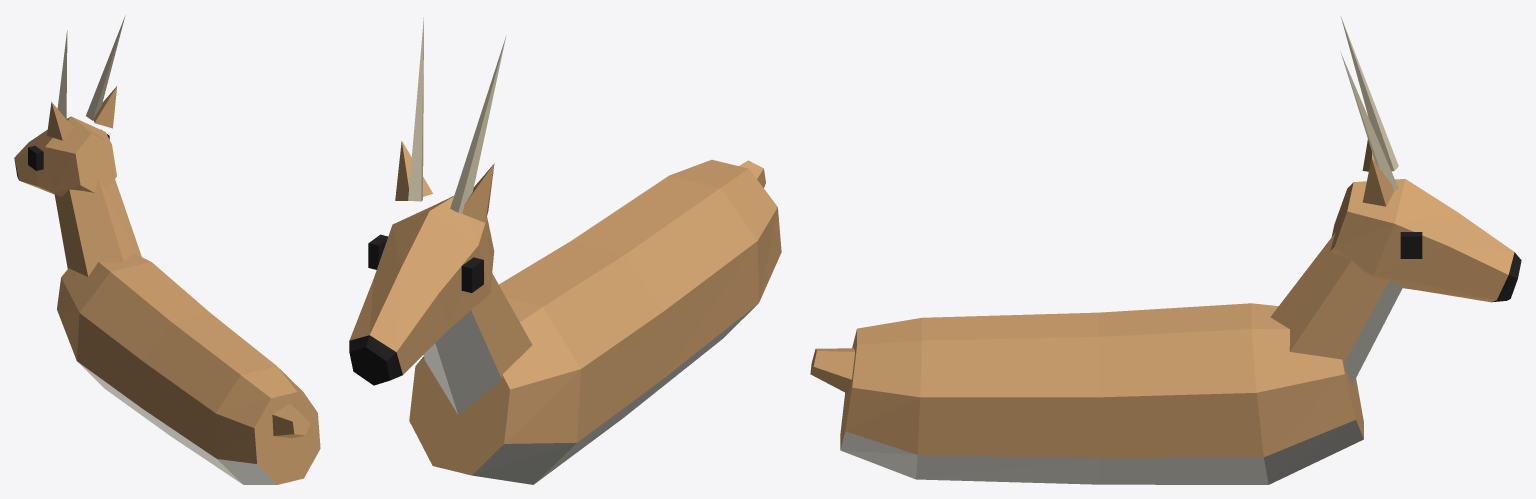
The model's file is animal_gazelle.obj.
3 views of the same model, side by side, from view 1: azimuth 30°, elevation 25°; view 2: azimuth 150°, elevation 25°; view 3: azimuth 270°, elevation 25° (orthographic). The views are drawn at different scales.
Visible parts, largest first — view 1: animal_gazelle; view 2: animal_gazelle; view 3: animal_gazelle.
Boxes of the visible parts, left/top/right/bottom form: animal_gazelle: left=14, top=15, right=320, bottom=484; animal_gazelle: left=349, top=17, right=781, bottom=484; animal_gazelle: left=810, top=16, right=1521, bottom=484.
Bounding box in the file's own units: 0.2226 × 0.7358 × 1.08.
